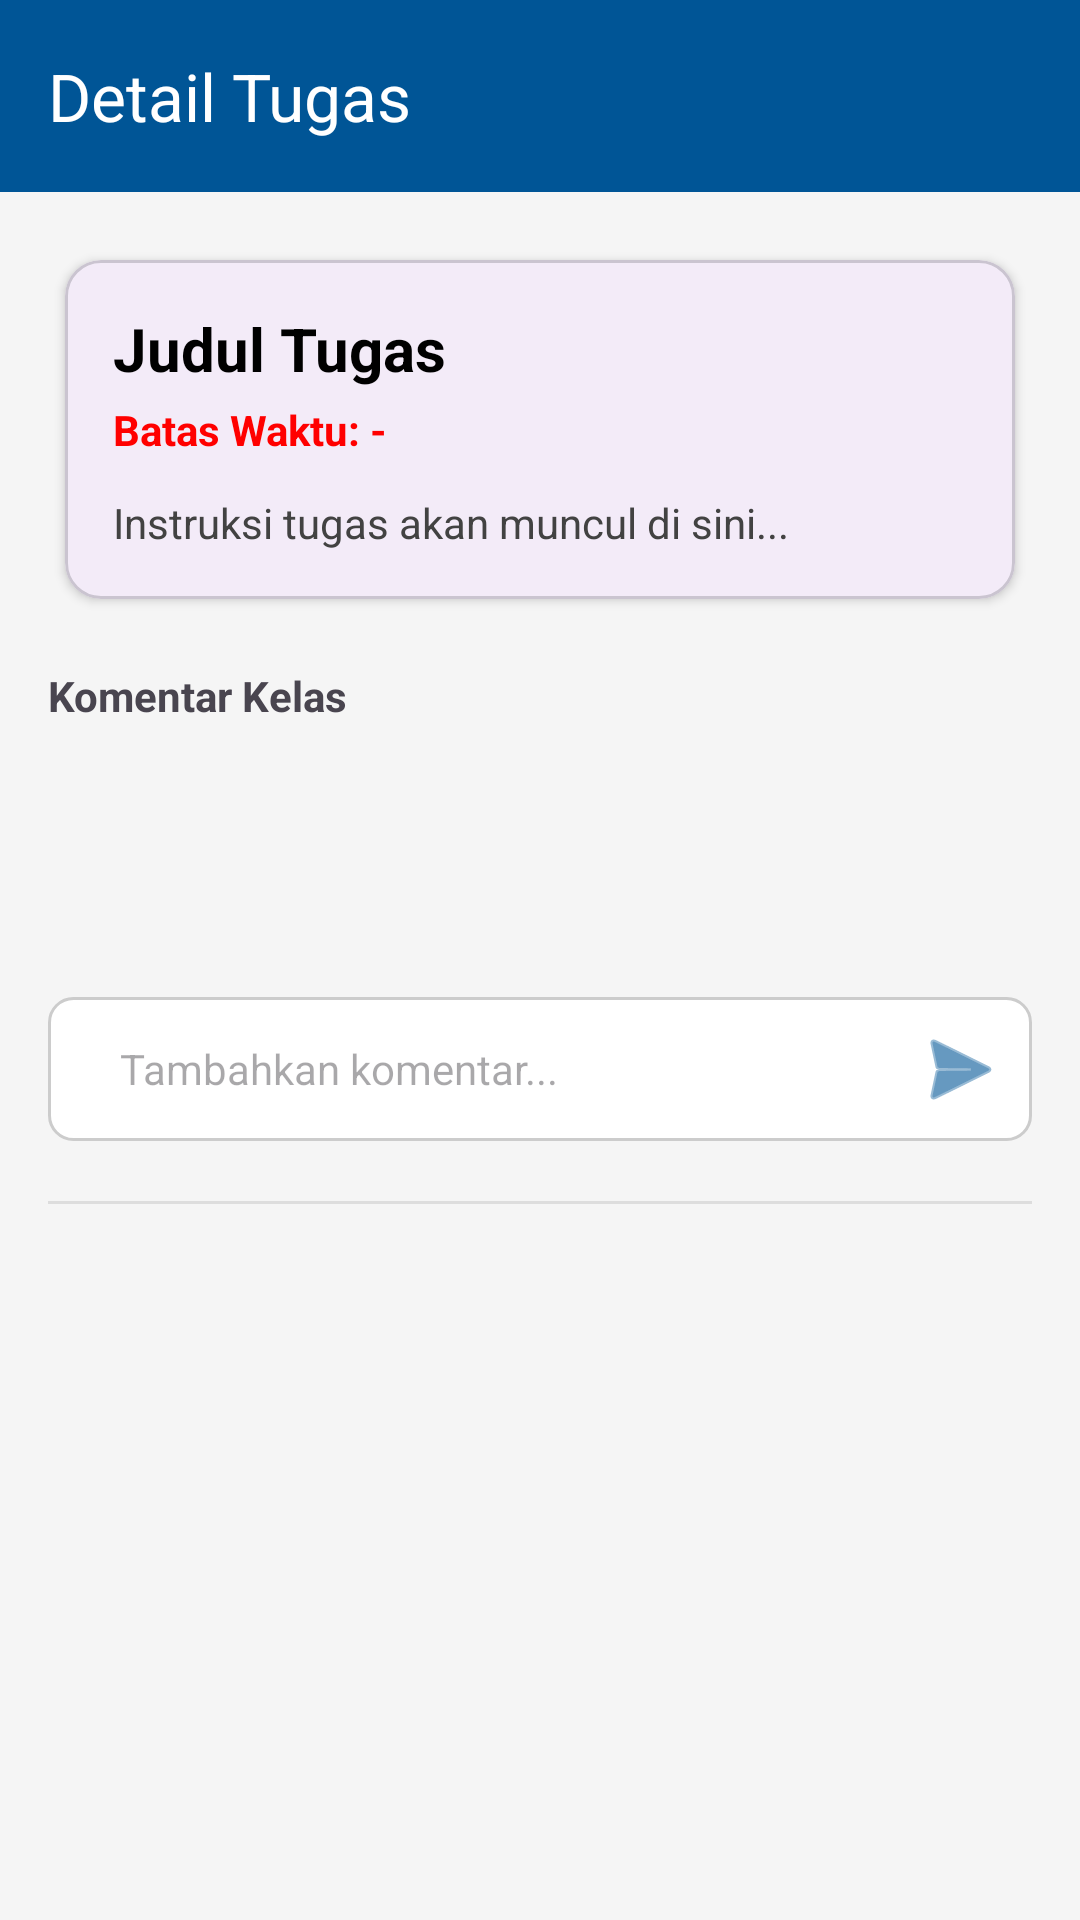

Point at icon controls on the screen. Image size 1080x1920, points as (x,y).
send: (960,1069)
